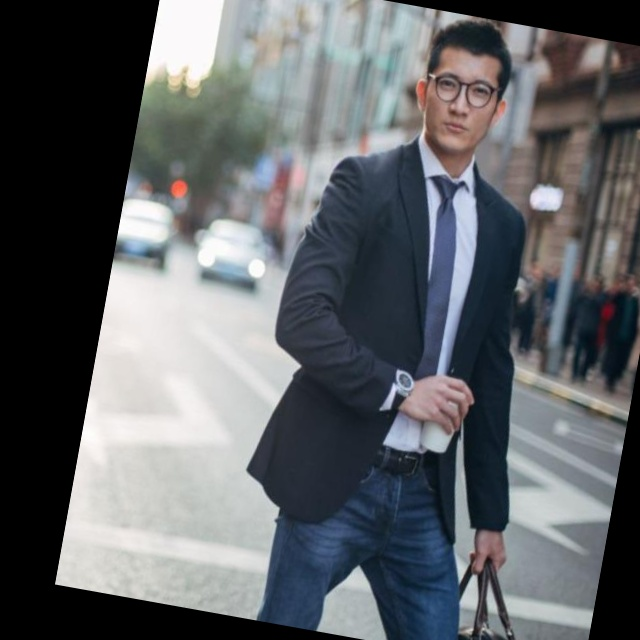Sin_Casco_Mascarrilla: (404, 12, 521, 165)
Sin_Chaleco: (263, 133, 546, 474)
